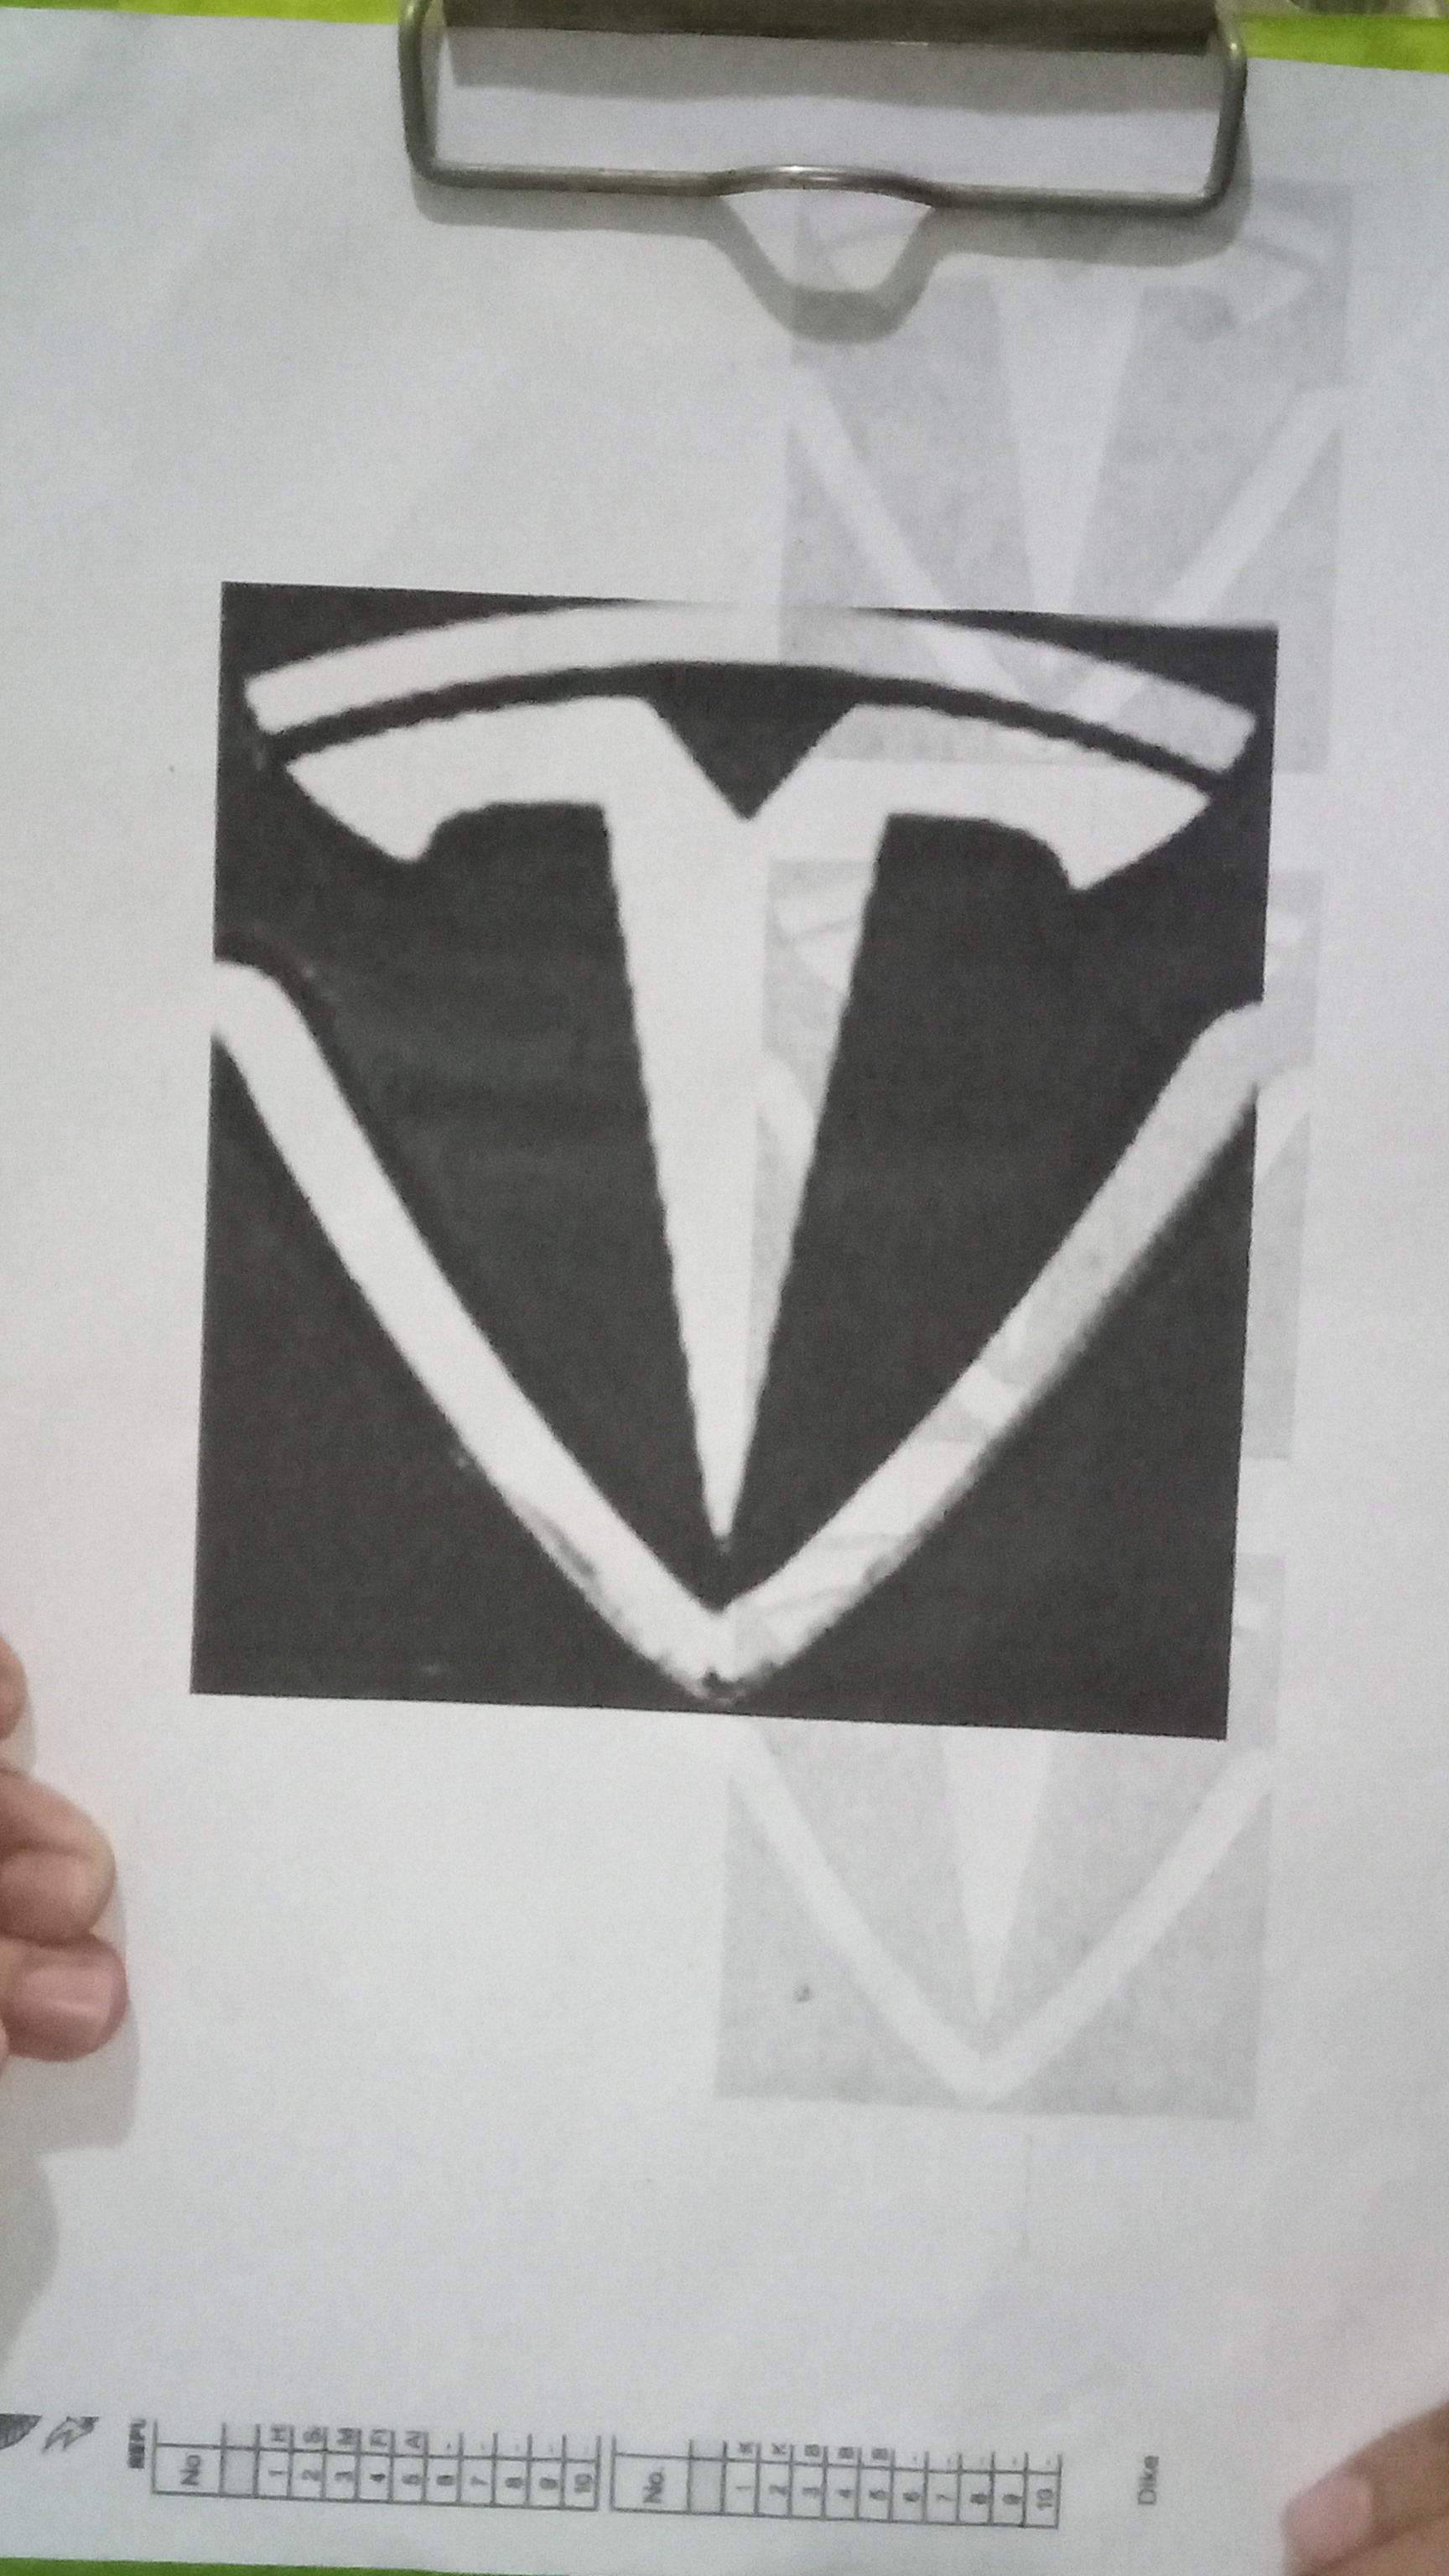Tesla: (195, 591, 1277, 1723)
